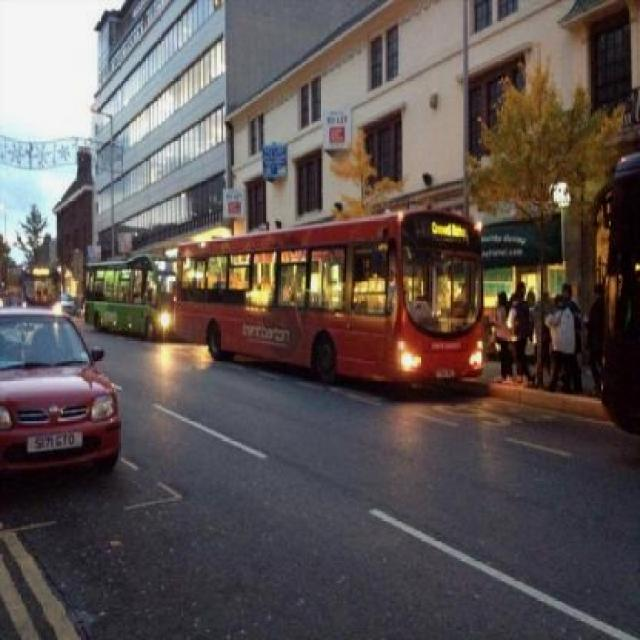Bus: (168, 188, 537, 393), (70, 252, 166, 331)
Car: (0, 305, 114, 477)
